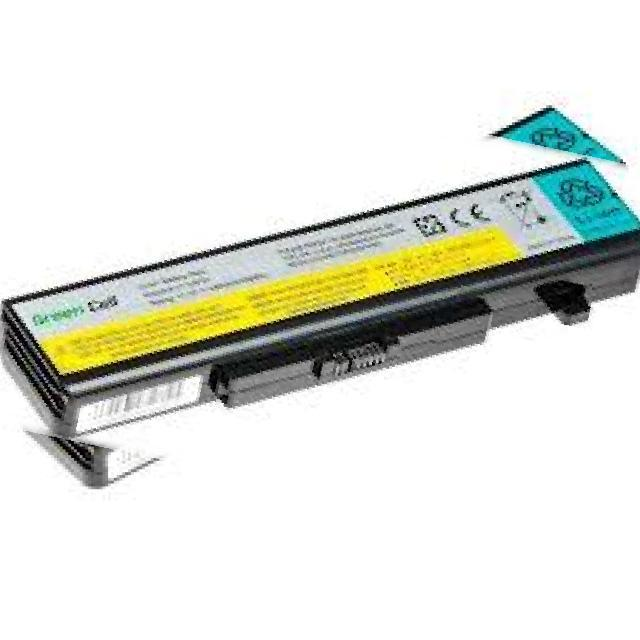Battery: (0, 150, 640, 436)
